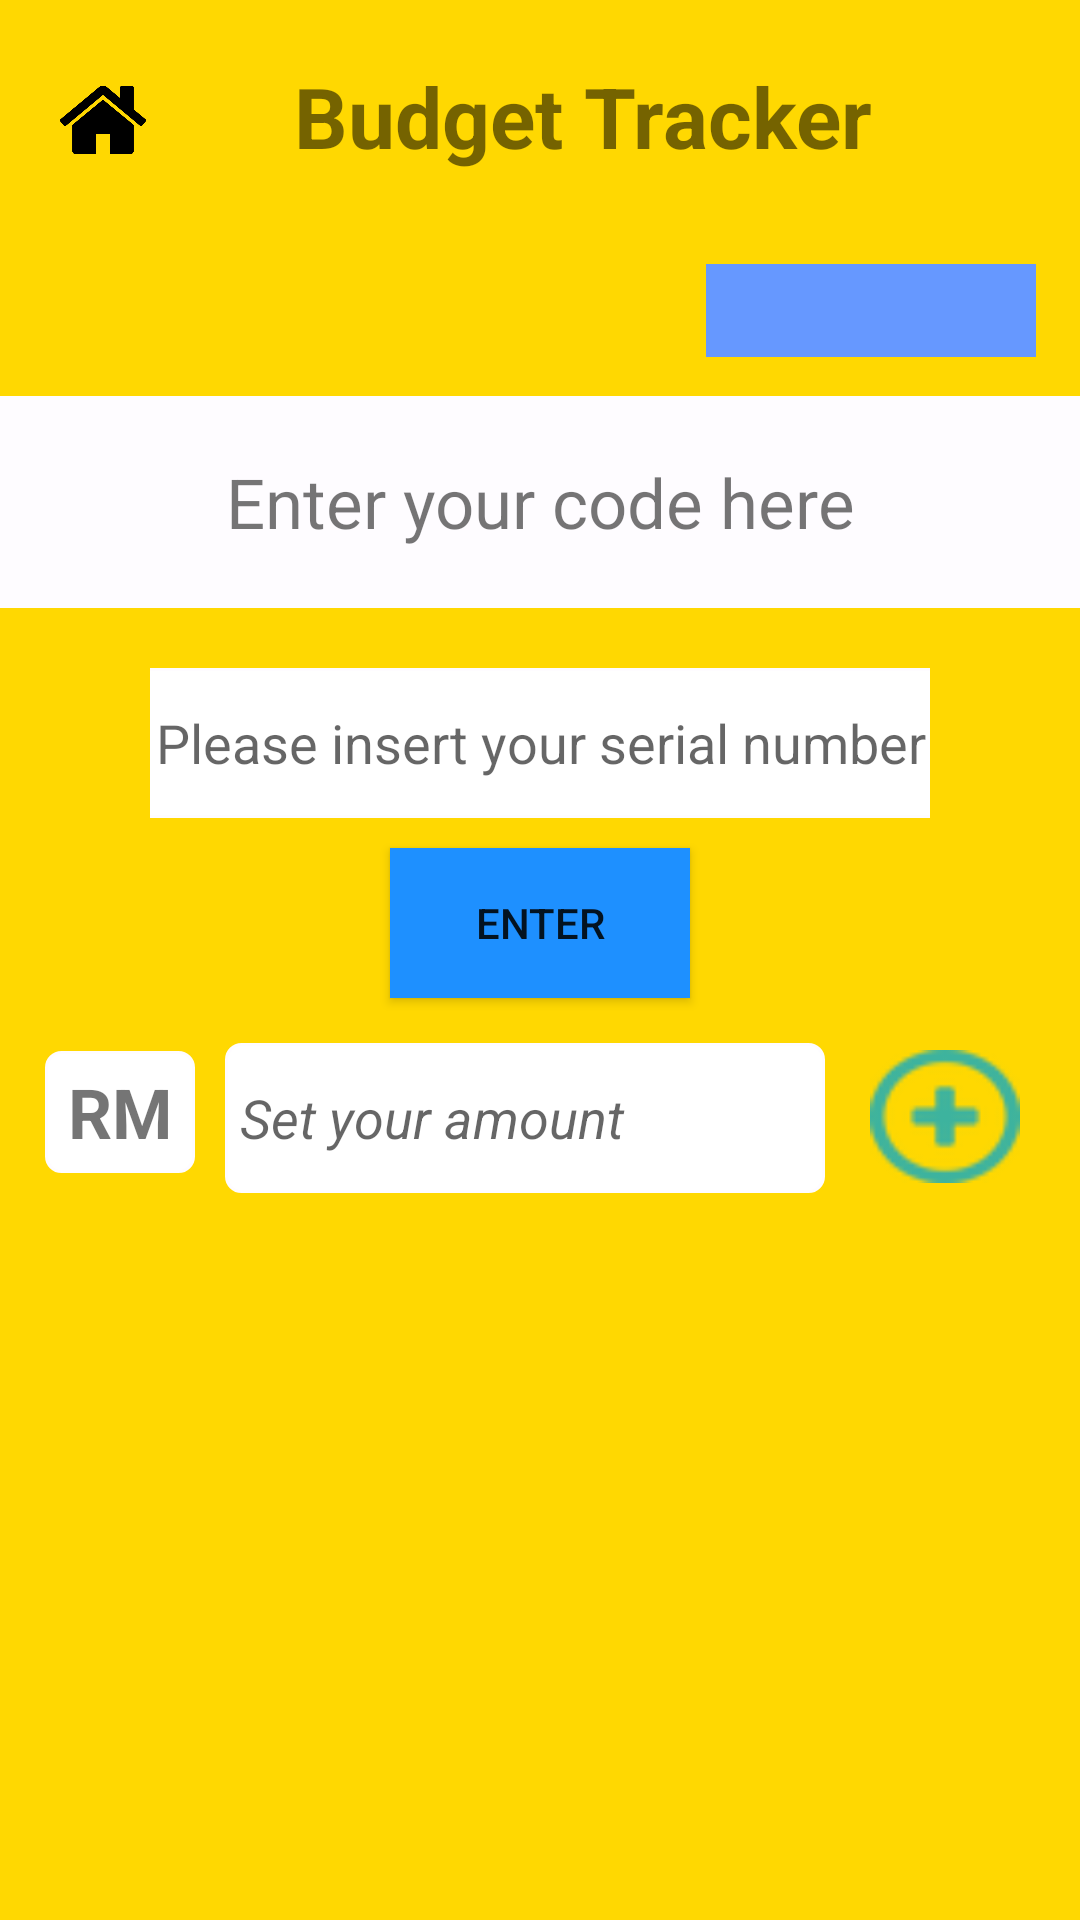

Icons on this 1080 × 1920 Android screen, each with its box as [left=x1, top=y1, right=x2, bottom=y2]:
home: [left=60, top=86, right=146, bottom=154]
rsz plus: [left=870, top=1050, right=1020, bottom=1183]
